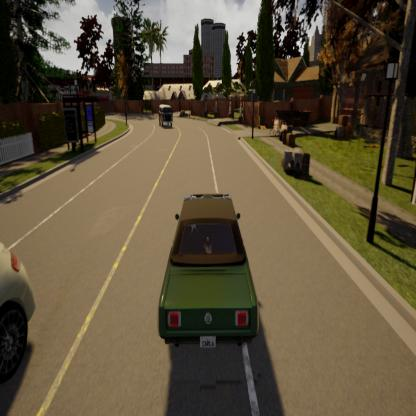Cars: (143, 168, 270, 376), (0, 210, 64, 416), (146, 80, 177, 139)
